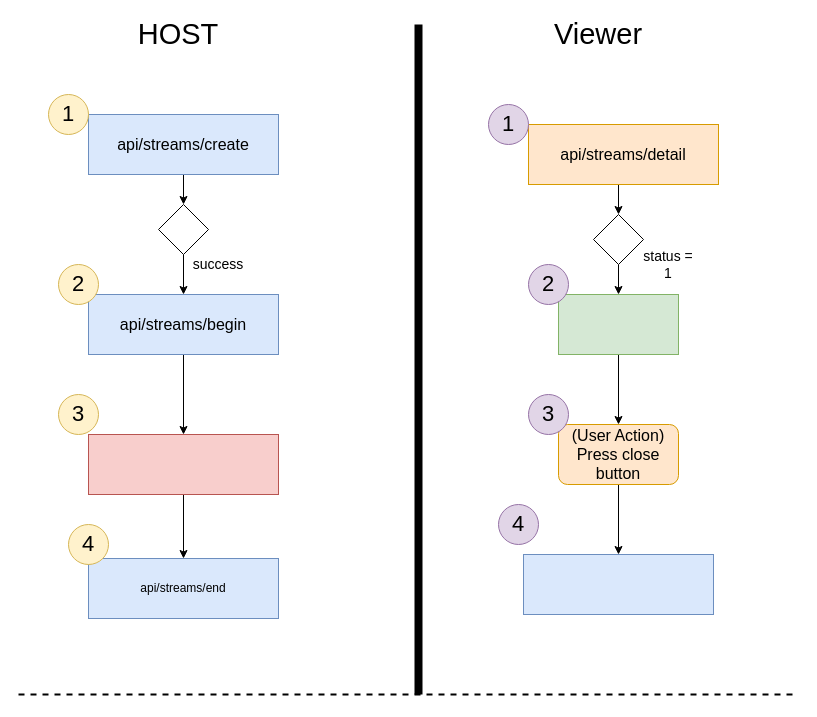
The diagram is 817 pixels wide and 717 high, and some of its shapes have lost their labels. The shapes that lost their labels are listed below. From the top down, each one's centre as x and y in pixels, then its label:
(x=618, y=324): Playback Stream
(x=183, y=464): api/streams/statistics (every 30 secondst)
(x=618, y=584): api/streams/leave-stream
